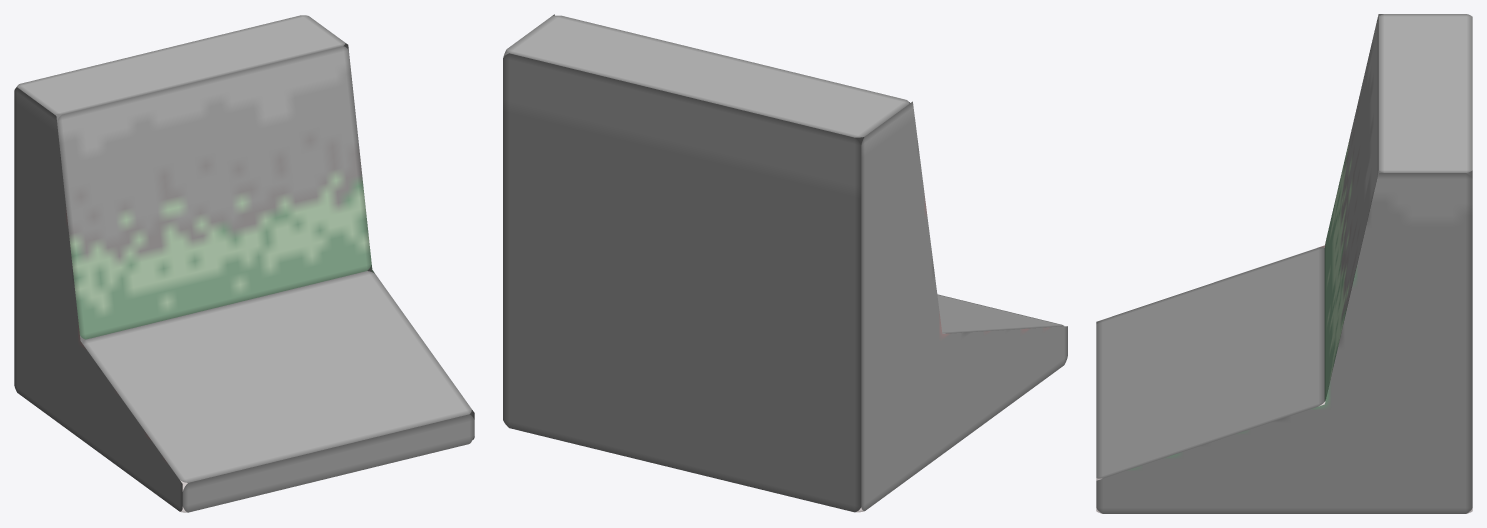
The model's file is Tembok_Kali.fbx.
The picture shows the model from 3 angles, left to right: view 1: azimuth 30°, elevation 25°; view 2: azimuth 150°, elevation 25°; view 3: azimuth 270°, elevation 25°; orthographic projection. The views are drawn at different scales.
Visible parts, largest first — view 1: cuboid; view 2: cuboid; view 3: cuboid.
Part boxes in pixels (<box>): cuboid: <box>14,15,474,512</box>; cuboid: <box>503,14,1067,512</box>; cuboid: <box>1096,14,1472,513</box>.
Bounding box in the file's own units: 700 × 700 × 700.
1 material, 1 textured.
